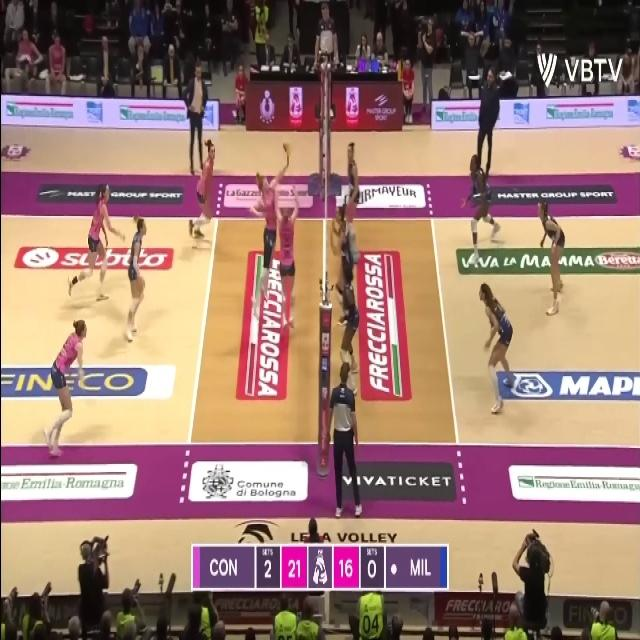volleyball court: (2, 215, 638, 450)
